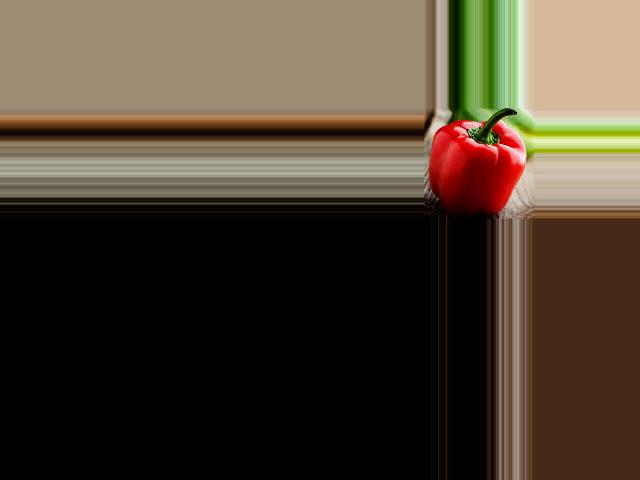bell_pepper: (431, 110, 528, 220)
